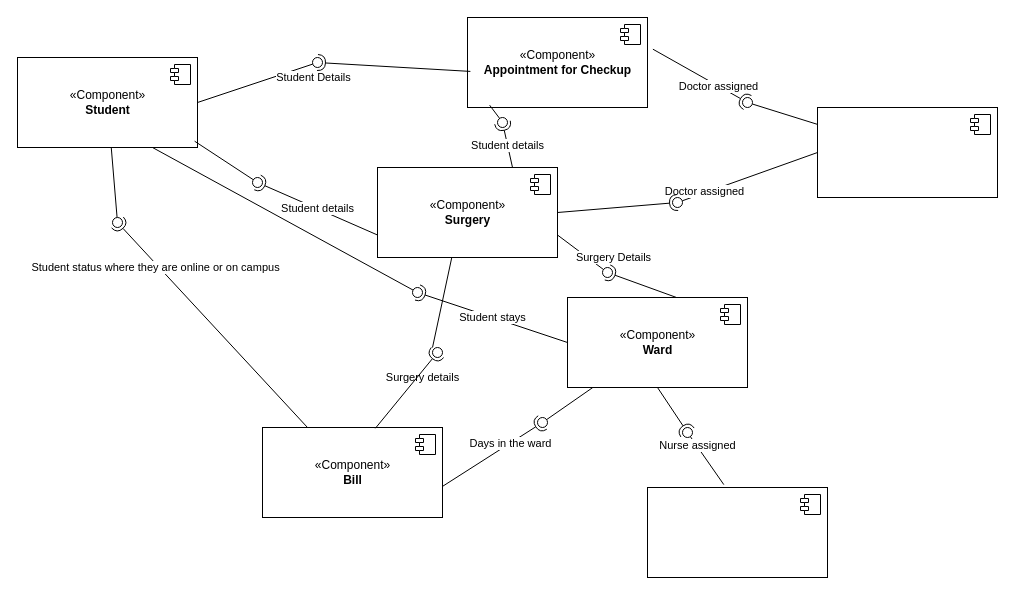
This 1015x595 diagram has some shape labels left out. The centre of each missing label's shape, as x and y in pixels:
«Component» Doctor: the point at 907,152
«Component» Nurse: the point at 737,532
